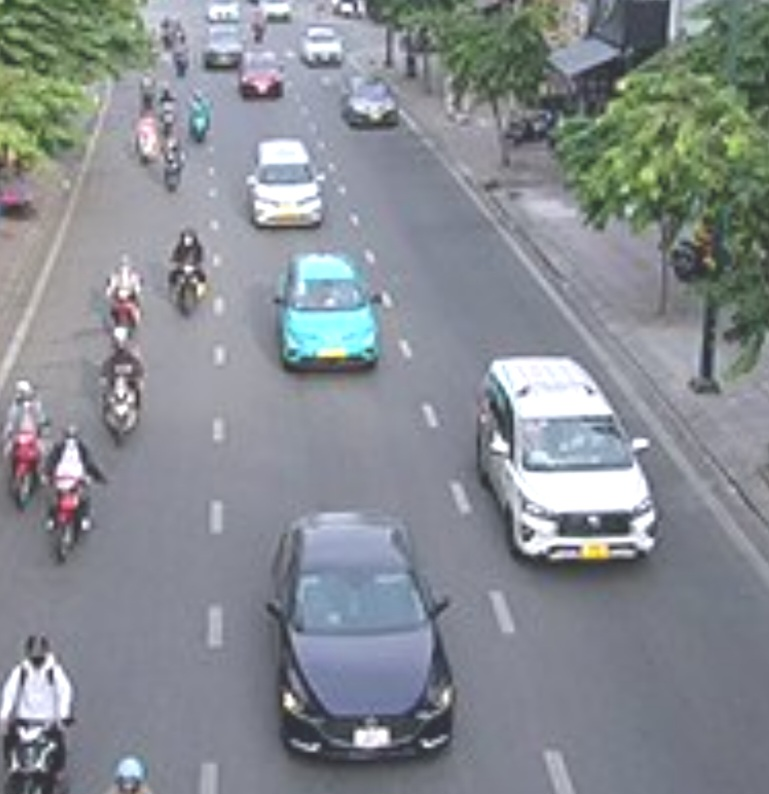car: (271, 511, 458, 760), (478, 356, 656, 567), (274, 253, 380, 371), (248, 136, 324, 228), (341, 75, 399, 127), (238, 51, 285, 101), (302, 24, 345, 66)
